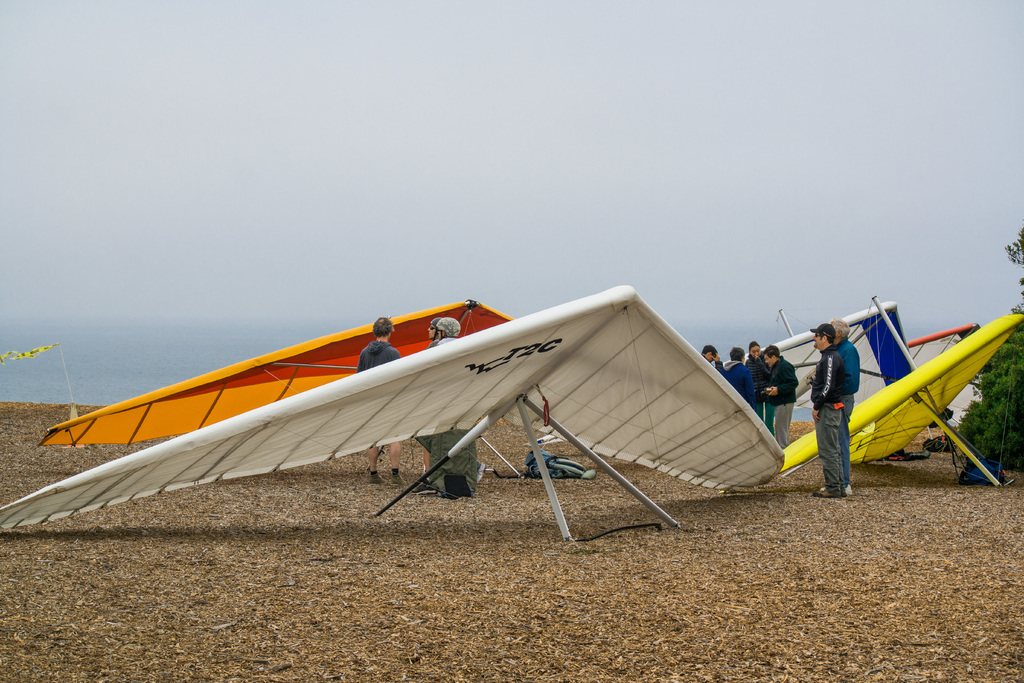person: (418, 313, 484, 498)
